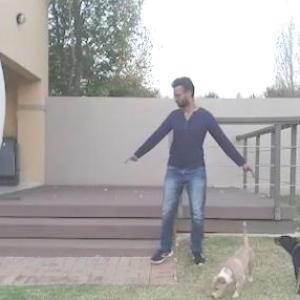land: (124, 74, 253, 260)
